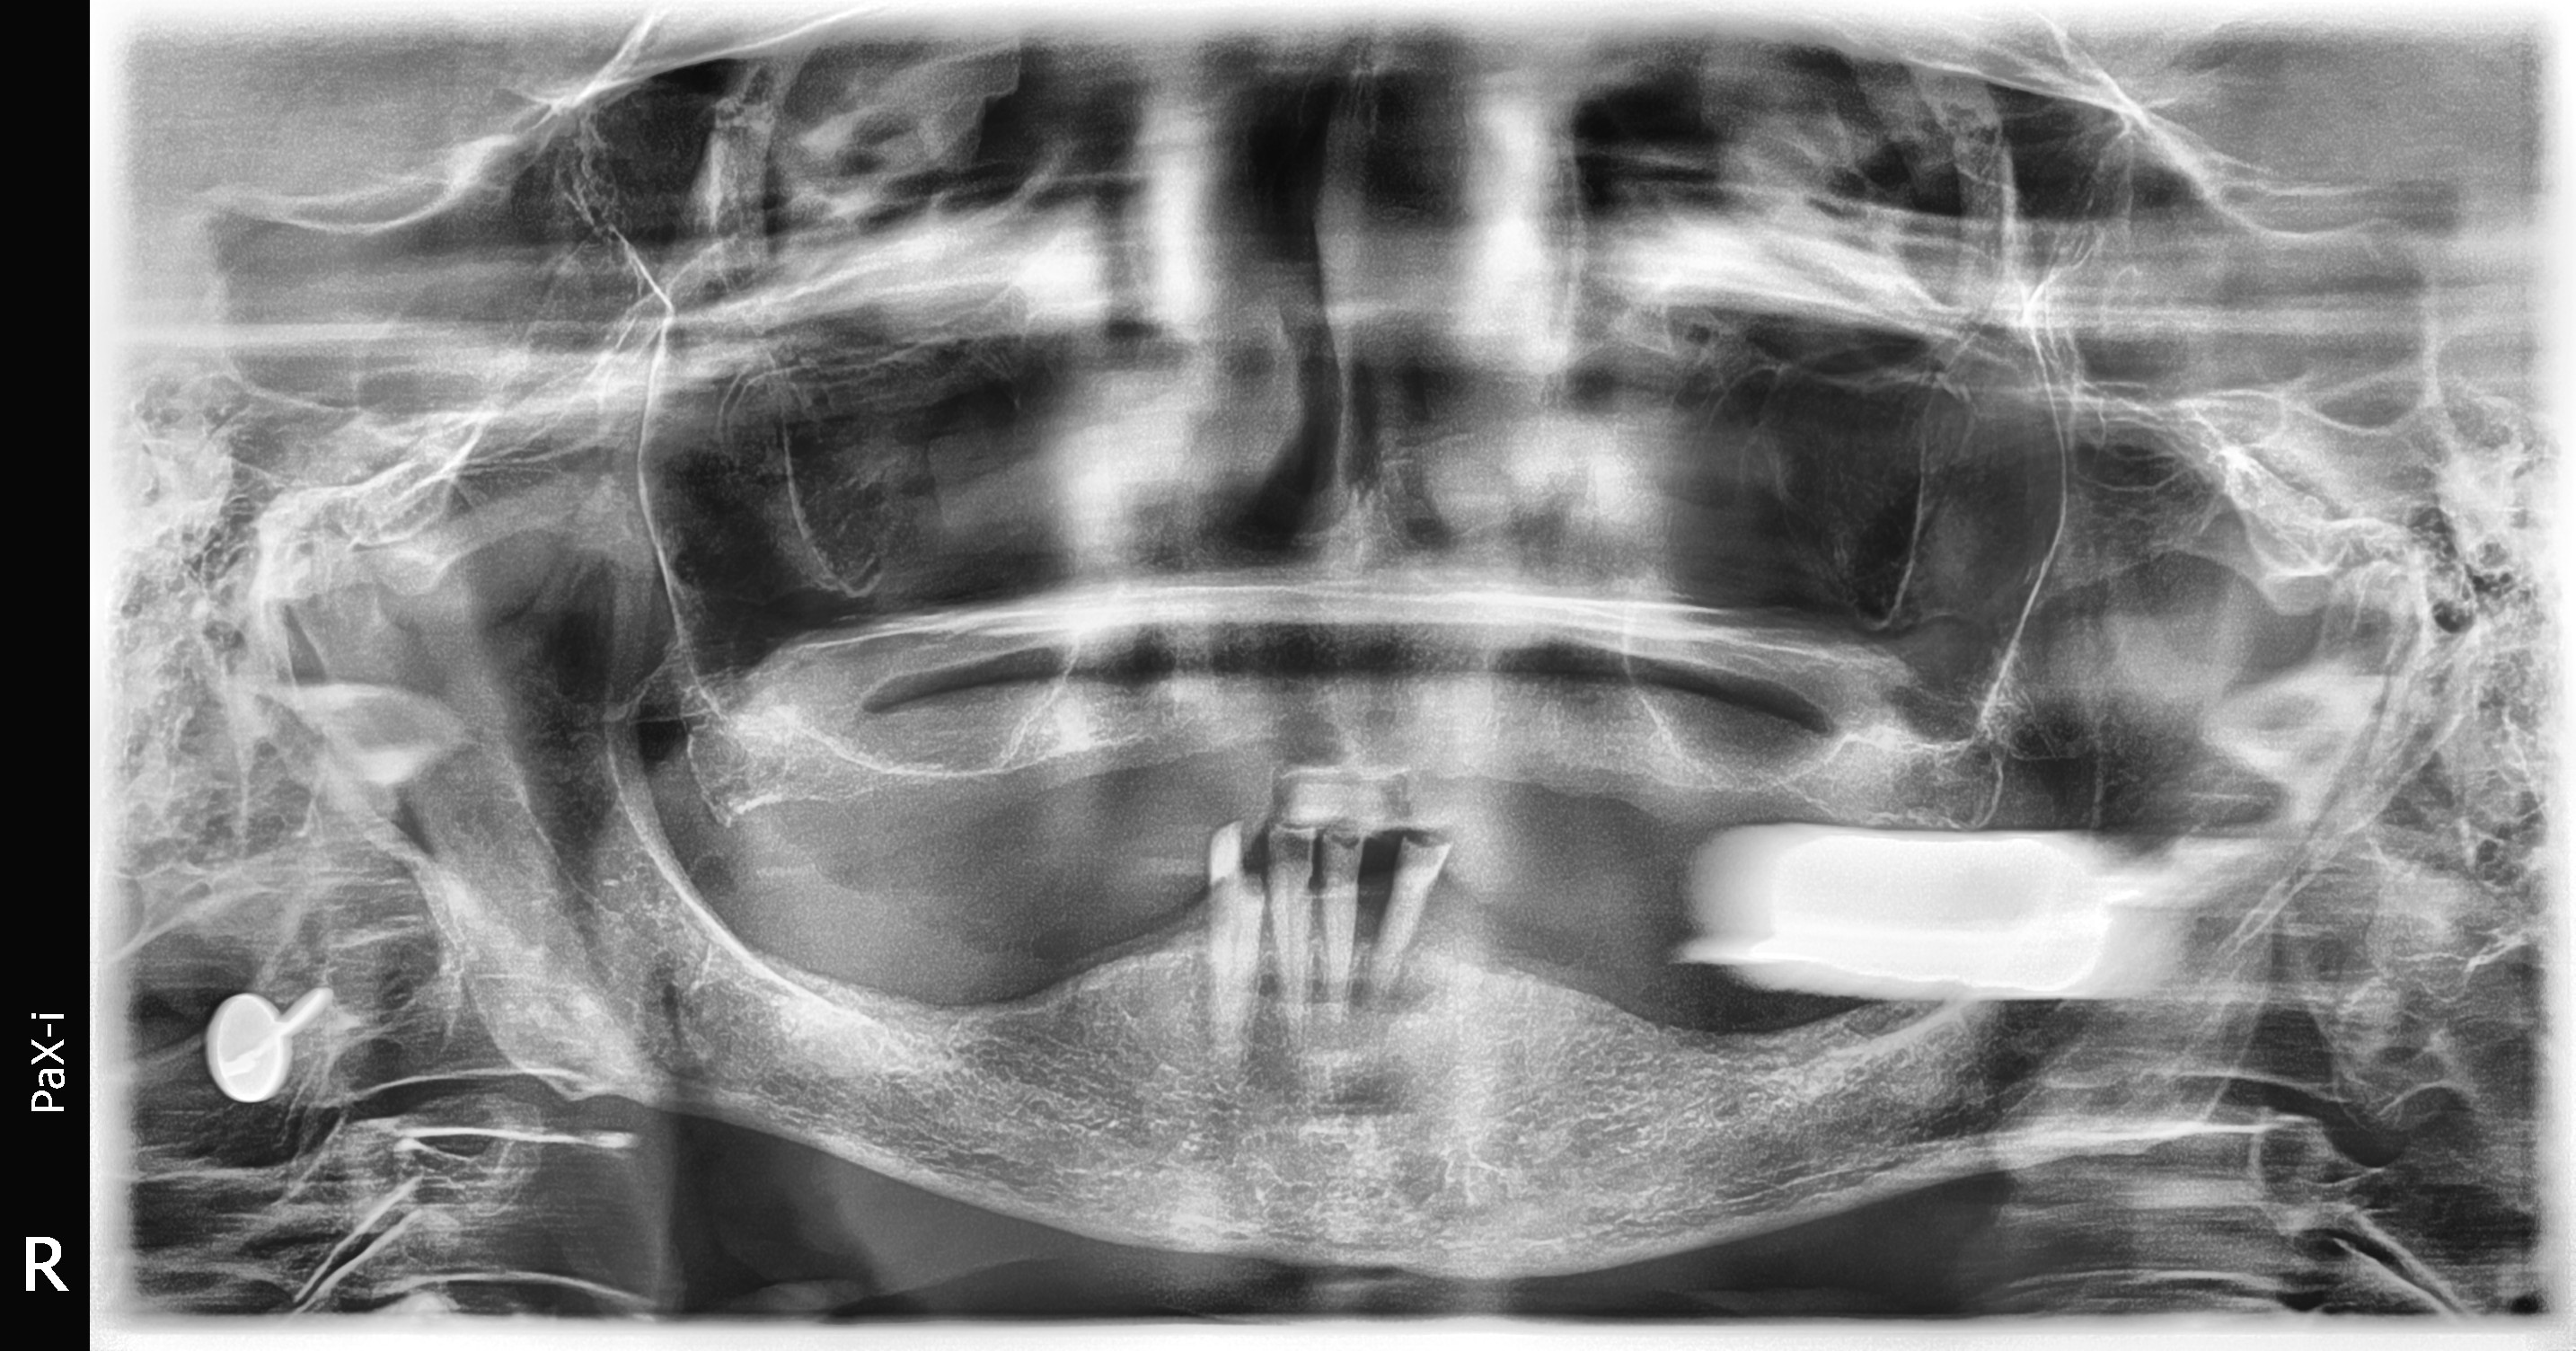BON: (1341, 882, 1400, 966)
CAR: (1220, 811, 1276, 908), (1297, 862, 1325, 901)
